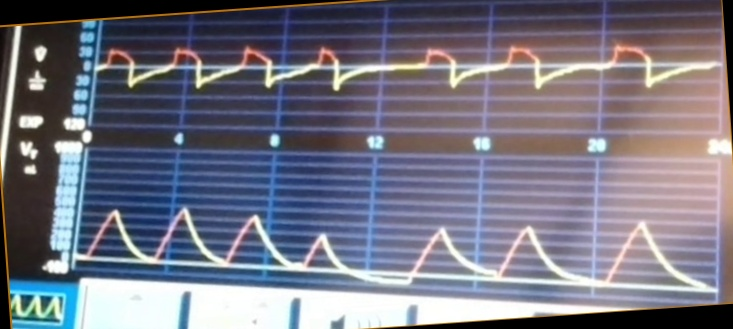Normal Flow: (101, 24, 719, 120)
Normal Volume: (79, 194, 717, 287)
